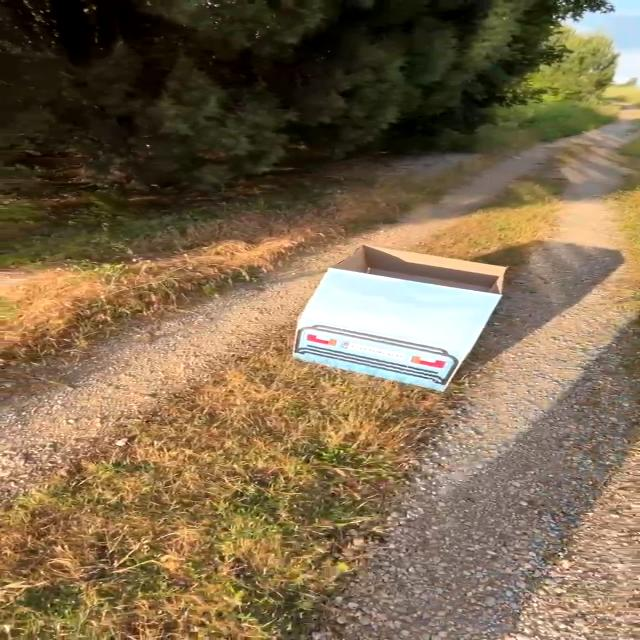blue_car: (240, 227, 528, 423)
